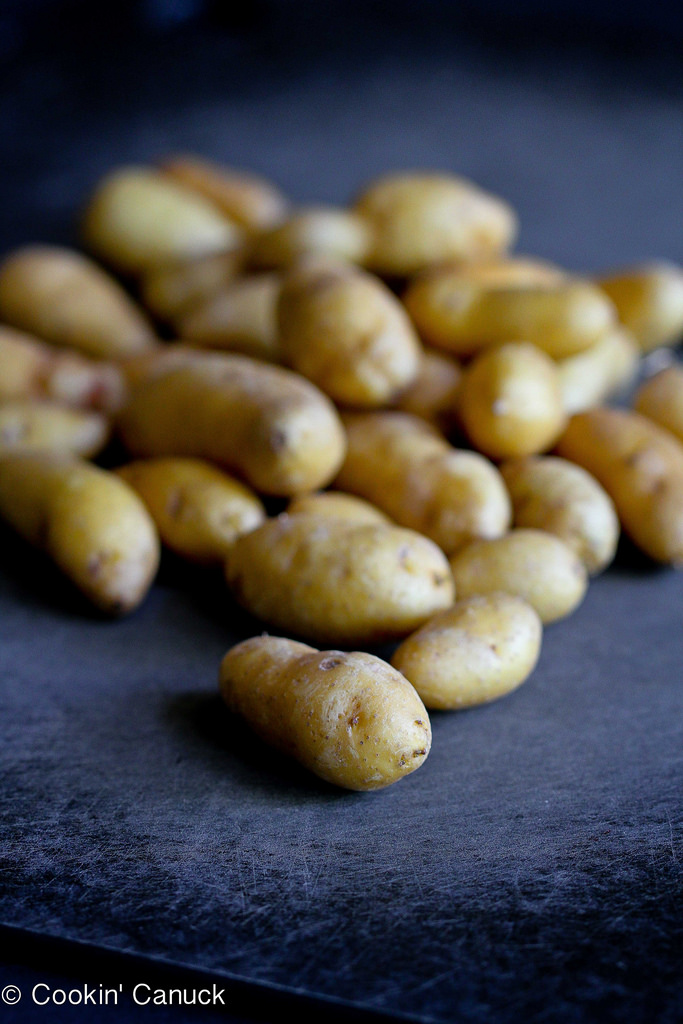boiled potatoes: (42, 200, 645, 666), (145, 339, 560, 616), (207, 628, 452, 802), (223, 503, 462, 622)
